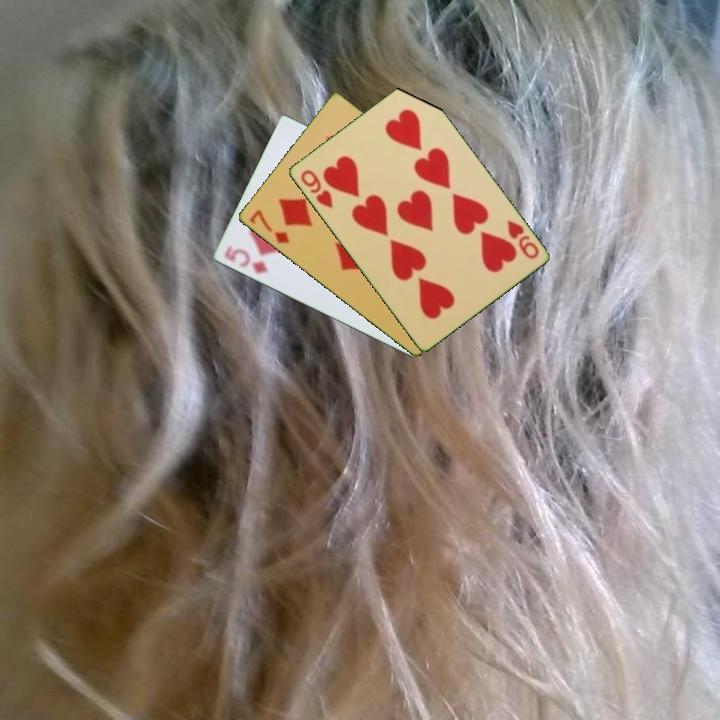5d: (221, 242, 271, 277)
7d: (246, 206, 292, 246)
9h: (296, 166, 335, 211), (503, 217, 542, 262)
